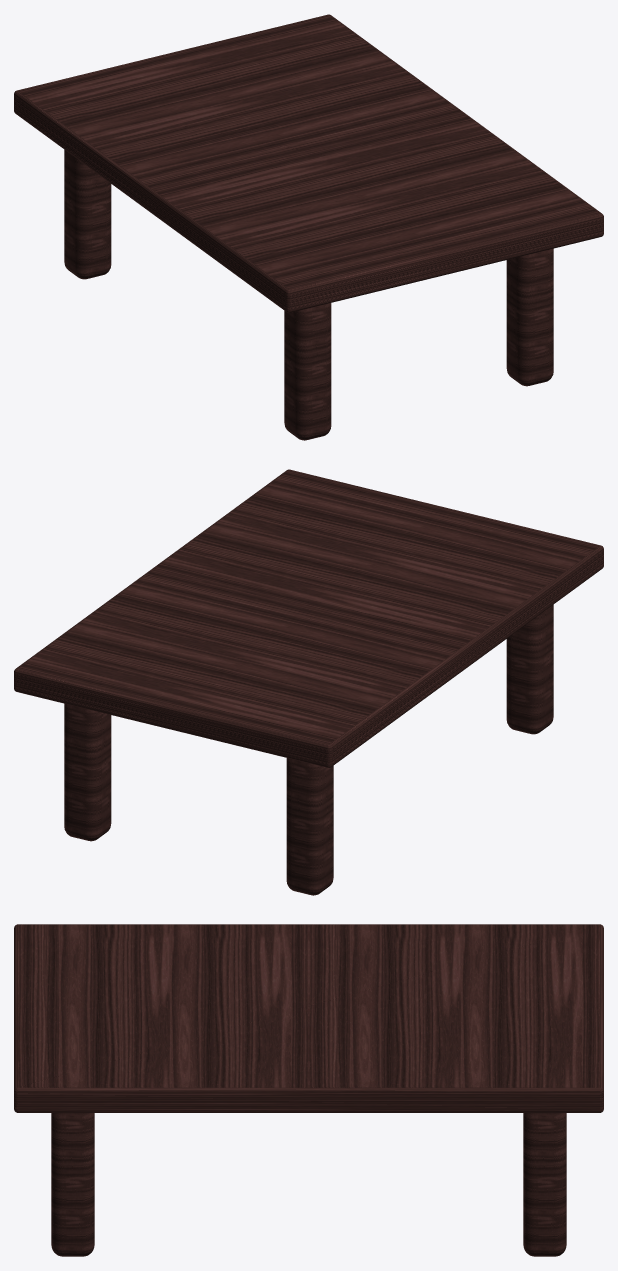
The model's file is table.fbx.
3 renders of one model, top to bottom at view 1: azimuth 30°, elevation 25°; view 2: azimuth 150°, elevation 25°; view 3: azimuth 270°, elevation 25°, orthographic. The views are drawn at different scales.
Visible parts, largest first — view 1: Cube, Cube_1_0, Cube_1_1, Cube_1_2; view 2: Cube, Cube_1_2, Cube_1_3, Cube_1_0; view 3: Cube, Cube_1_1, Cube_1_3.
Part boxes in pixels (left/top/right/bottom): Cube: left=14, top=14, right=603, bottom=312; Cube_1_0: left=284, top=303, right=331, bottom=440; Cube_1_1: left=506, top=248, right=553, bottom=386; Cube_1_2: left=64, top=149, right=111, bottom=279; Cube: left=14, top=469, right=603, bottom=767; Cube_1_2: left=286, top=758, right=333, bottom=895; Cube_1_3: left=64, top=703, right=111, bottom=841; Cube_1_0: left=506, top=604, right=553, bottom=734; Cube: left=14, top=924, right=603, bottom=1112; Cube_1_1: left=51, top=1113, right=94, bottom=1256; Cube_1_3: left=523, top=1113, right=566, bottom=1256.
Bounding box in the file's own units: 200 × 105 × 300.
5 materials, 5 textured.
